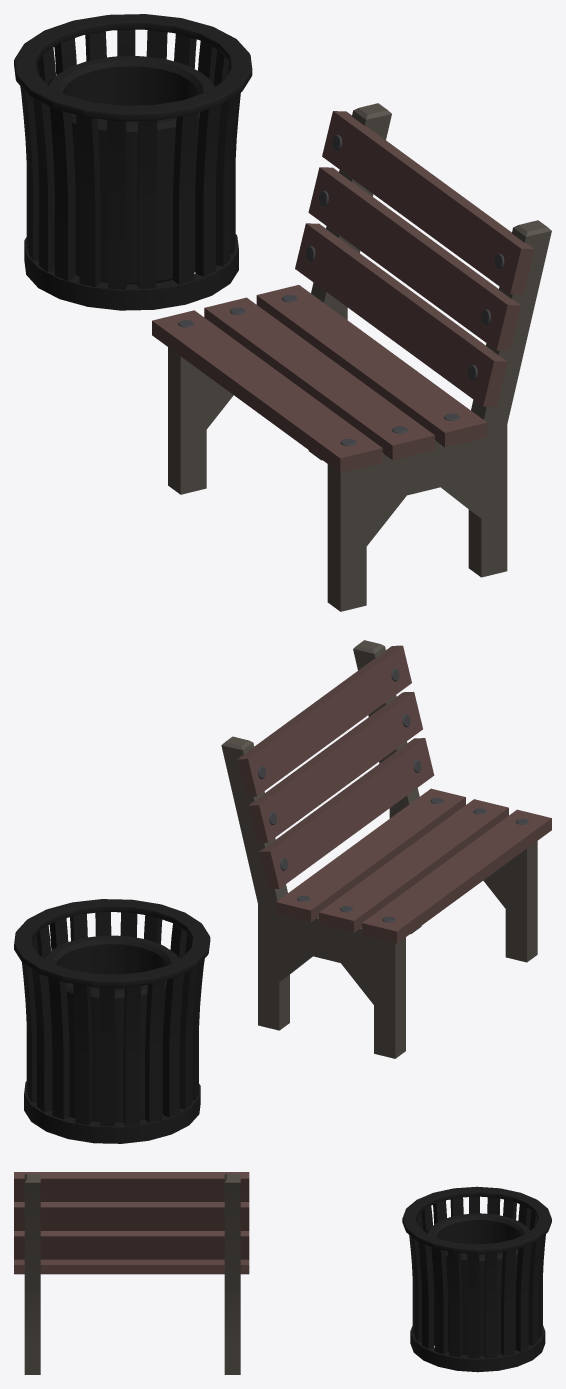
File: Bin.fbx
3 renders of one model, top to bottom at view 1: azimuth 30°, elevation 25°; view 2: azimuth 150°, elevation 25°; view 3: azimuth 270°, elevation 25°, orthographic. The views are drawn at different scales.
Parts seen in each view (by area): view 1: Planks_Bottom1, Outer_Bin, Planks_Bottom, Bench_Base, Bin_Can, Outer_Bin_Ridge, Outer_Bin_Base, Nails_Top; view 2: Planks_Bottom1, Outer_Bin, Planks_Bottom, Bench_Base, Bin_Can, Outer_Bin_Ridge, Outer_Bin_Base; view 3: Planks_Bottom1, Outer_Bin, Bench_Base, Bin_Can, Outer_Bin_Ridge, Planks_Bottom, Outer_Bin_Base.
Part boxes in pixels (<box>): Planks_Bottom1: <box>295,111,534,406</box>; Outer_Bin: <box>20,29,240,289</box>; Planks_Bottom: <box>152,285,487,472</box>; Bench_Base: <box>168,103,551,611</box>; Bin_Can: <box>47,56,215,284</box>; Outer_Bin_Ridge: <box>14,14,252,121</box>; Outer_Bin_Base: <box>24,234,238,310</box>; Nails_Top: <box>305,135,504,380</box>; Planks_Bottom1: <box>237,645,434,889</box>; Outer_Bin: <box>22,912,204,1126</box>; Planks_Bottom: <box>276,788,551,943</box>; Bench_Base: <box>221,640,537,1058</box>; Bin_Can: <box>44,935,179,1122</box>; Outer_Bin_Ridge: <box>14,899,210,987</box>; Outer_Bin_Base: <box>24,1081,200,1143</box>; Planks_Bottom1: <box>14,1172,249,1259</box>; Outer_Bin: <box>409,1196,545,1358</box>; Bench_Base: <box>24,1173,240,1374</box>; Bin_Can: <box>426,1213,530,1355</box>; Outer_Bin_Ridge: <box>402,1186,551,1253</box>; Planks_Bottom: <box>14,1259,249,1274</box>; Outer_Bin_Base: <box>410,1325,545,1372</box>.
Size of the model in its own units: 3.51 by 4.17 by 9.79.
